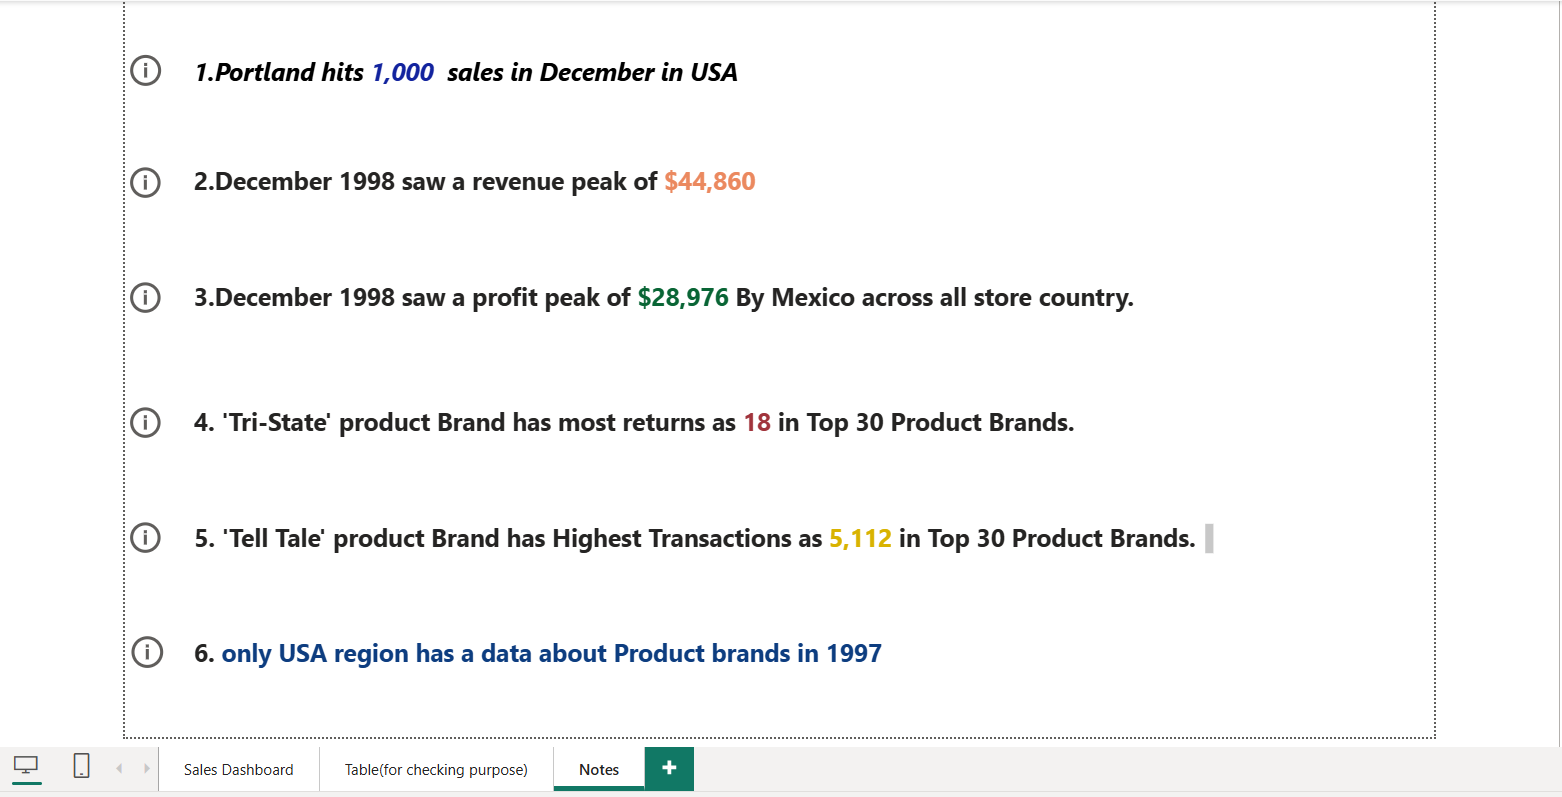

What the dashboard file says about the page in this screenshot:
{"tool":"powerbi","page":{"name":"Notes","canvas":[1280,720],"ordinal":2},"visuals":[{"type":"textbox","box":[62.4,47.7,589.4,47.7],"z":0},{"type":"actionButton","box":[0,47.6,50.5,40.4],"z":1000},{"type":"textbox","box":[62,154.4,1046,75],"z":2000},{"type":"actionButton","box":[0,157.9,51.2,39.8],"z":3000},{"type":"textbox","box":[62,268.4,953.7,76.5],"z":4000},{"type":"actionButton","box":[0,270.2,51.2,39.8],"z":5000},{"type":"textbox","box":[62,389.5,1046,76.5],"z":6000},{"type":"actionButton","box":[0,392.5,51.2,39.8],"z":7000},{"type":"actionButton","box":[0,504.9,51.2,39.8],"z":8000},{"type":"textbox","box":[62.4,505,1013.7,88],"z":9000},{"type":"actionButton","box":[1.4,615.8,49.8,41.2],"z":10000},{"type":"textbox","box":[62.6,615.8,1024,51.2],"z":11000}]}

Visuals, with their boxes on the page's 1280x720 design canvas (x1, y1, x2, y2). These are canvas units, not pixel positions in the 1562x797 screenshot, which may show the page scaled, cropped or inside an application window:
textbox: [62, 48, 652, 95]
actionButton: [0, 48, 50, 88]
textbox: [62, 154, 1108, 229]
actionButton: [0, 158, 51, 198]
textbox: [62, 268, 1016, 345]
actionButton: [0, 270, 51, 310]
textbox: [62, 390, 1108, 466]
actionButton: [0, 392, 51, 432]
actionButton: [0, 505, 51, 545]
textbox: [62, 505, 1076, 593]
actionButton: [1, 616, 51, 657]
textbox: [63, 616, 1087, 667]
